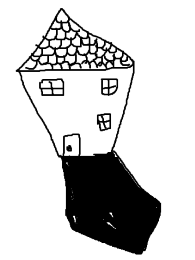closed_window: (35, 76, 70, 99), (97, 75, 122, 98), (94, 108, 115, 133)
door: (58, 129, 86, 162)
roof: (10, 5, 141, 74)
shadow: (51, 145, 167, 257)
wall: (15, 64, 139, 158)
